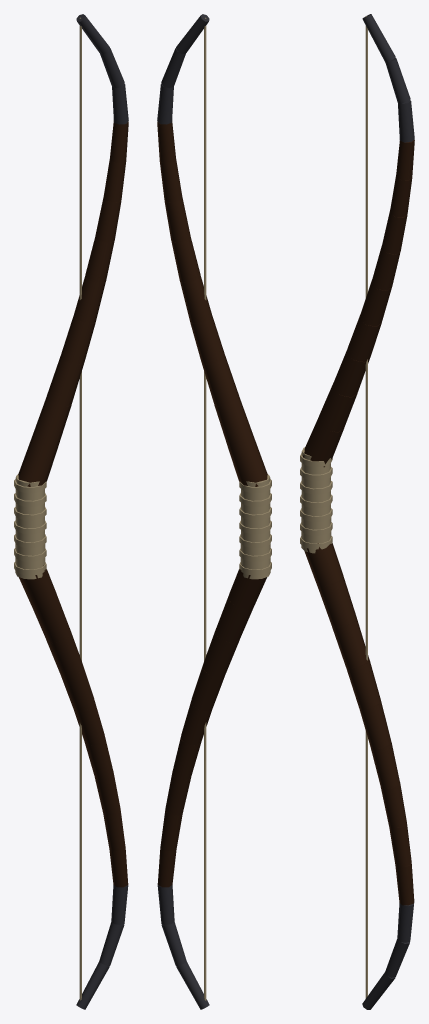
File: SM_Art_Weapon_CompositeBow.gltf
3 views of the same model, side by side, from view 1: azimuth 30°, elevation 25°; view 2: azimuth 150°, elevation 25°; view 3: azimuth 330°, elevation 25° (orthographic).
Parts seen in each view (by area): view 1: SM_Art_Weapon_CompositeBow; view 2: SM_Art_Weapon_CompositeBow; view 3: SM_Art_Weapon_CompositeBow.
Boxes of the visible parts, box(x1,y1,x2,y2) form: SM_Art_Weapon_CompositeBow: box(14, 14, 128, 1009); SM_Art_Weapon_CompositeBow: box(157, 14, 271, 1009); SM_Art_Weapon_CompositeBow: box(300, 14, 414, 1009).
Bounding box in the file's own units: 0.1699 × 1.45 × 0.0405.
